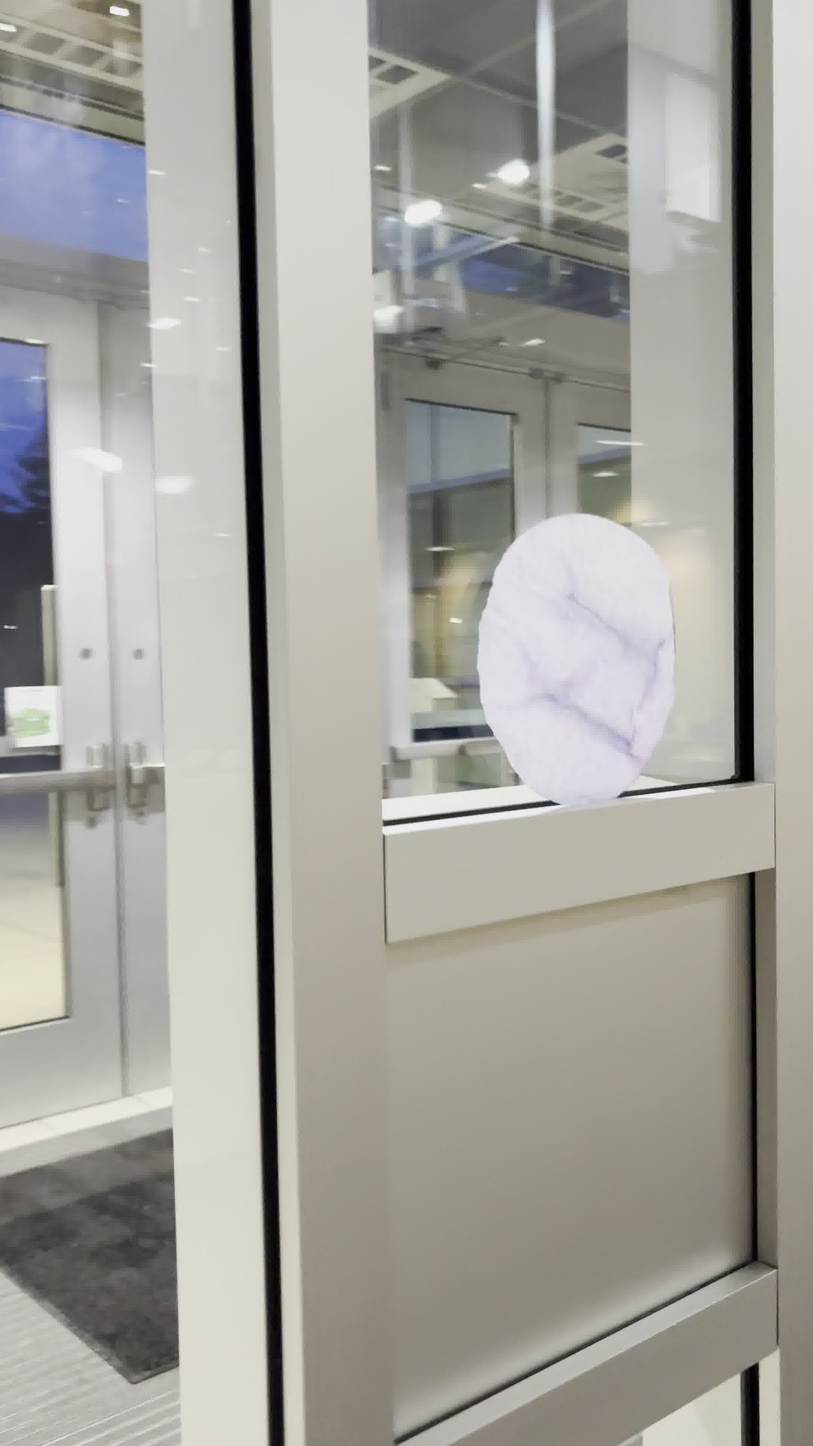Target: (474, 508, 685, 813)
